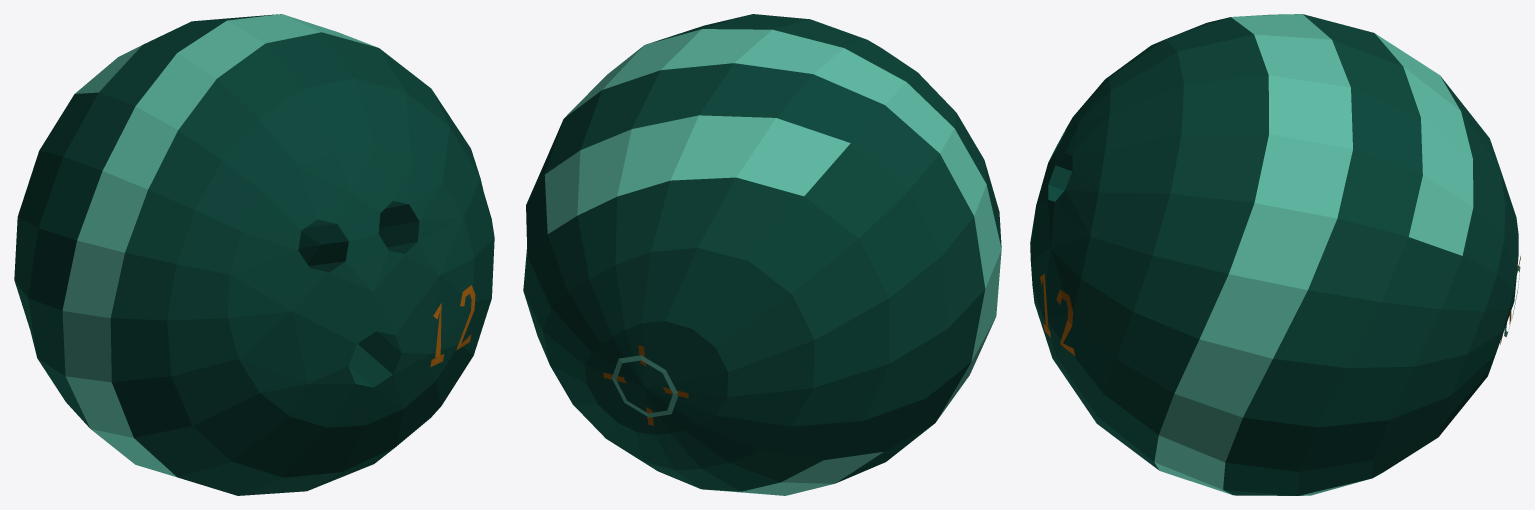
File: cozy_bowling_ball_12lb.obj
3 renders of one model, left to right at view 1: azimuth 30°, elevation 25°; view 2: azimuth 150°, elevation 25°; view 3: azimuth 270°, elevation 25°, orthographic.
Parts seen in each view (by area): view 1: Ball_12lb_Mesh; view 2: Ball_12lb_Mesh; view 3: Ball_12lb_Mesh.
Part boxes in pixels (left/top/right/bottom): Ball_12lb_Mesh: left=14, top=14, right=494, bottom=495; Ball_12lb_Mesh: left=523, top=14, right=1001, bottom=495; Ball_12lb_Mesh: left=1030, top=14, right=1520, bottom=495.
Bounding box in the file's own units: 0.2161 × 0.2161 × 0.2173.
